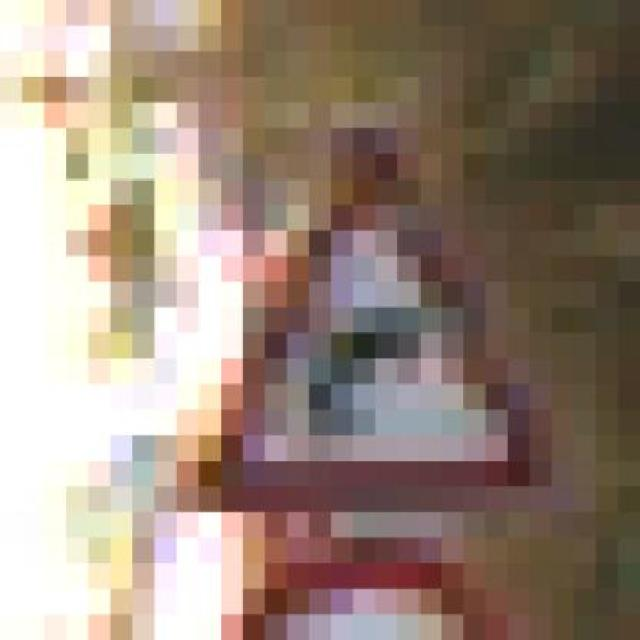Dangerous Rright Curve Ahead: (132, 102, 552, 538)
